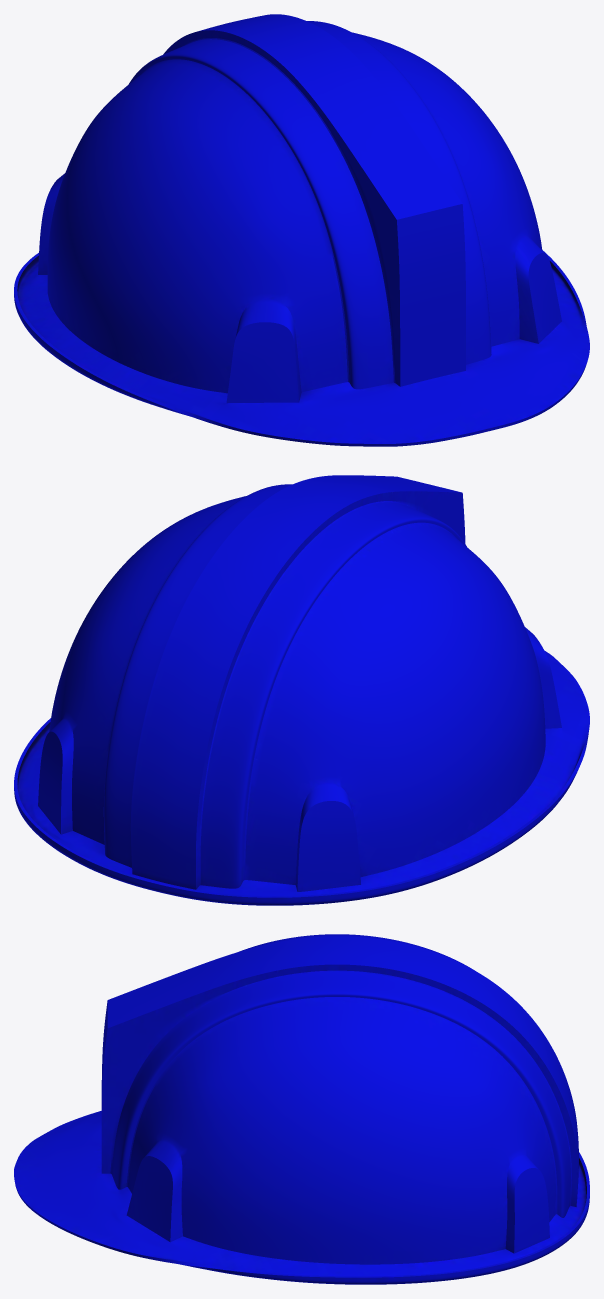
The model's file is helmet(1).glb.
3 views of the same model, one above another, from view 1: azimuth 30°, elevation 25°; view 2: azimuth 150°, elevation 25°; view 3: azimuth 270°, elevation 25° (orthographic). The views are drawn at different scales.
Parts seen in each view (by area): view 1: casco azul; view 2: casco azul; view 3: casco azul.
Part boxes in pixels (<box>): casco azul: <box>14,14,589,446</box>; casco azul: <box>14,475,589,905</box>; casco azul: <box>14,934,589,1284</box>.
Bounding box in the file's own units: 0.2351 × 0.1354 × 0.2834.
Materials: 1 (1 with a texture image).
